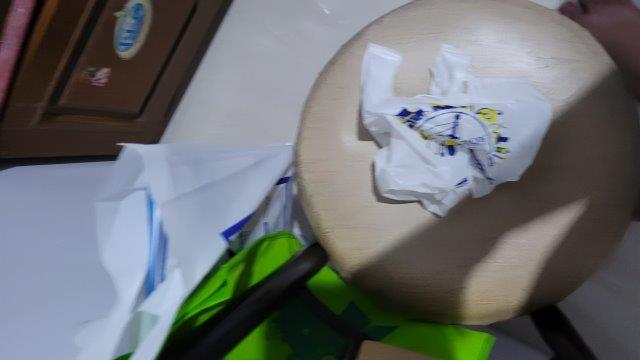plastik: (359, 45, 552, 219)
